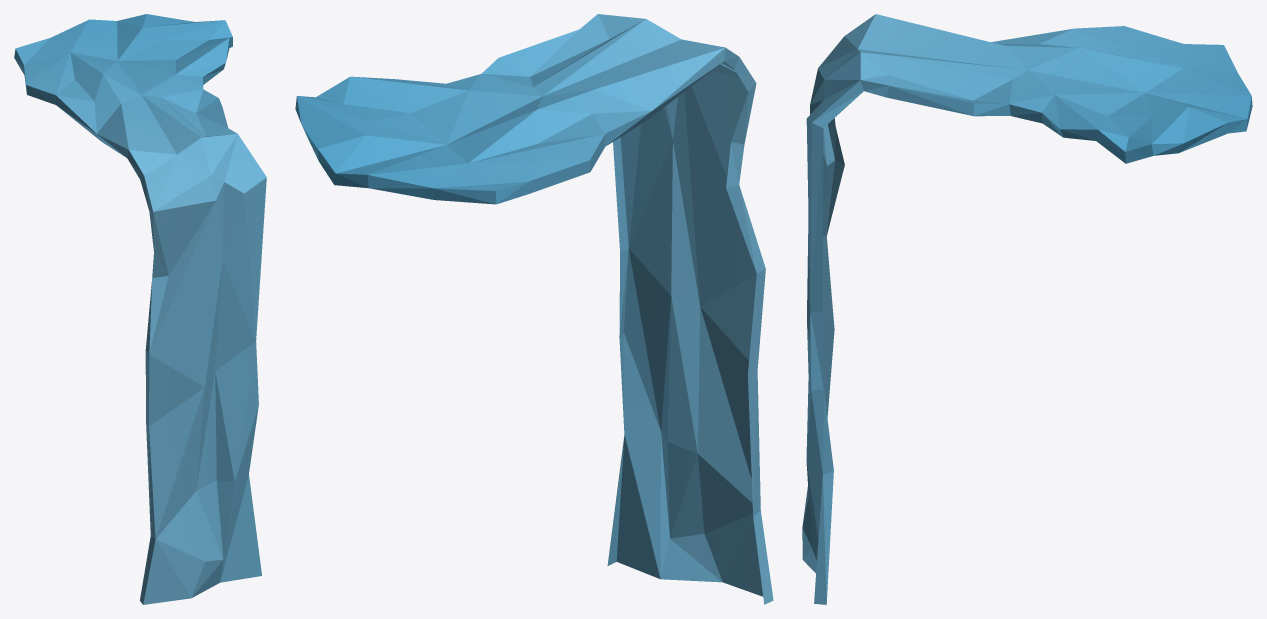
File: waterfall.glb
The picture shows the model from 3 angles, left to right: view 1: azimuth 30°, elevation 25°; view 2: azimuth 150°, elevation 25°; view 3: azimuth 270°, elevation 25°; orthographic projection. The views are drawn at different scales.
Parts seen in each view (by area): view 1: waterfall; view 2: waterfall; view 3: waterfall.
Part boxes in pixels (x1=…): waterfall: x1=14, y1=14, x2=266, y2=604; waterfall: x1=295, y1=14, x2=773, y2=604; waterfall: x1=802, y1=14, x2=1252, y2=604.
Bounding box in the file's own units: 8.75 × 16.41 × 12.68.
Materials: 1 (1 with a texture image).
